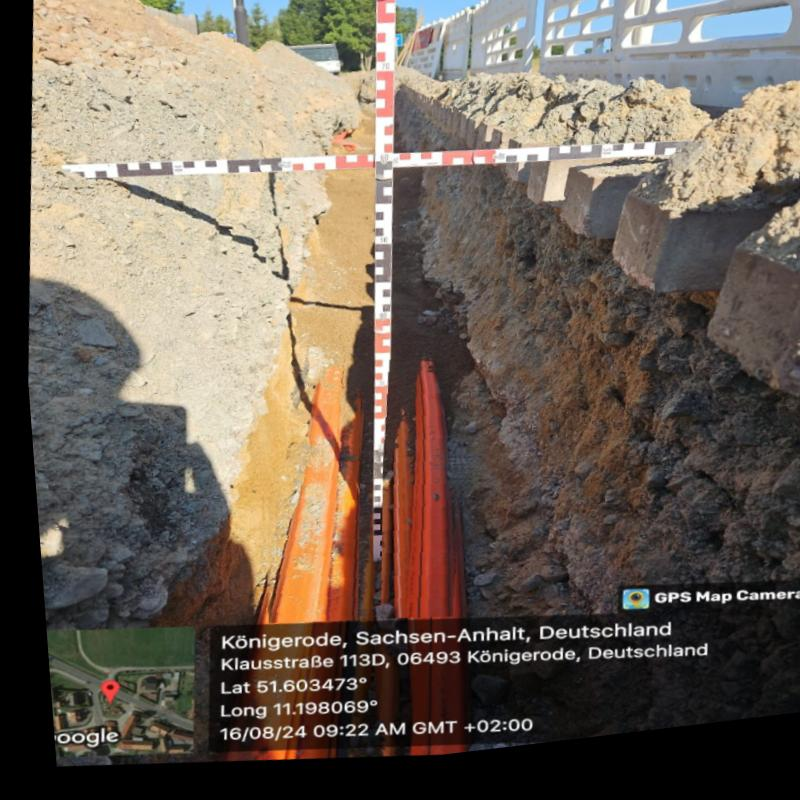Orang-Speednetrohrchen: (257, 380, 353, 629), (371, 370, 445, 627)
